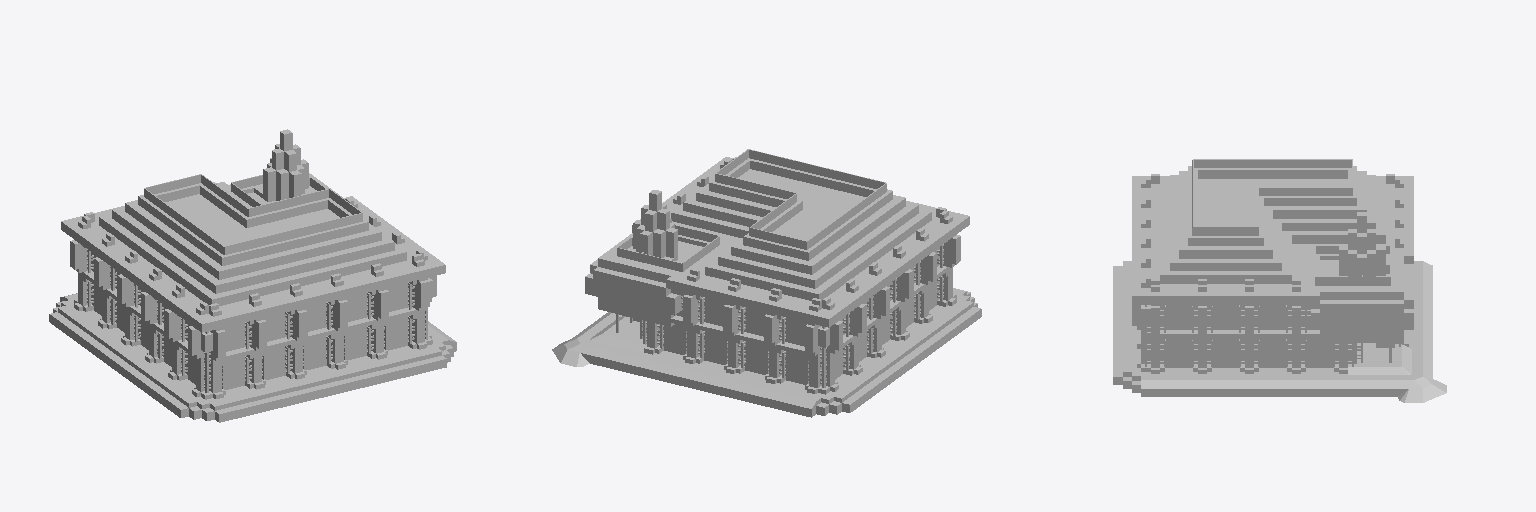
The picture shows the model from 3 angles: view 1: azimuth 30°, elevation 25°; view 2: azimuth 150°, elevation 25°; view 3: azimuth 270°, elevation 25°; orthographic projection.
Visible parts, largest first — view 1: SketchUp_ID3, SketchUp.001_ID11, SketchUp.017_ID107, SketchUp.2249_ID6941; view 2: SketchUp_ID3, SketchUp.001_ID11, SketchUp.017_ID107, SketchUp.2249_ID6941; view 3: SketchUp_ID3, SketchUp.001_ID11, SketchUp.017_ID107, SketchUp.2249_ID6941.
Part boxes in pixels (x1,y1,x2,y2): SketchUp_ID3: (61, 129, 445, 399); SketchUp.001_ID11: (49, 293, 456, 422); SketchUp.017_ID107: (144, 174, 362, 254); SketchUp.2249_ID6941: (146, 175, 360, 216); SketchUp_ID3: (585, 157, 969, 394); SketchUp.001_ID11: (552, 288, 981, 417); SketchUp.017_ID107: (715, 149, 886, 249); SketchUp.2249_ID6941: (717, 150, 884, 229); SketchUp_ID3: (1132, 166, 1413, 374); SketchUp.001_ID11: (1113, 261, 1446, 402); SketchUp.017_ID107: (1192, 159, 1352, 235); SketchUp.2249_ID6941: (1194, 160, 1351, 167).
Size of the model in its own units: 35.5 by 18 by 35.5.